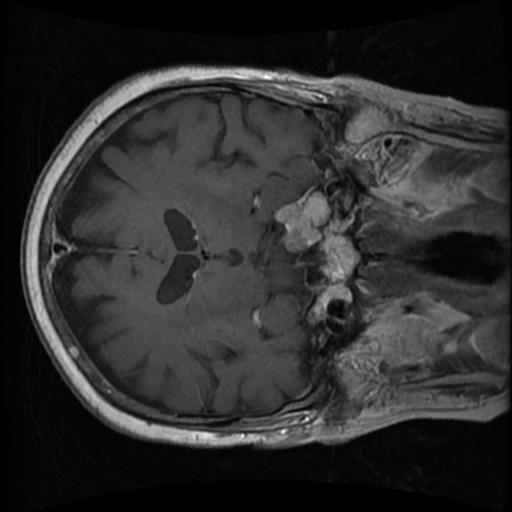meningioma: (275, 187, 332, 253)
